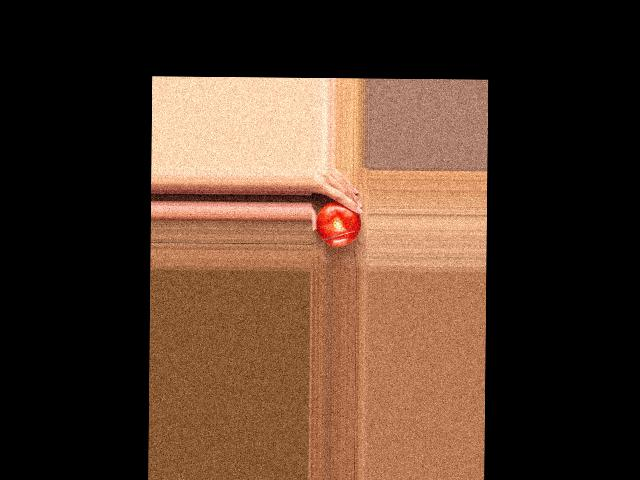tomato: (316, 201, 360, 246)
